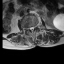CCS_normal: (31, 25, 33, 34)
LFS_stenosis: (34, 23, 36, 29)
LLS_normal: (33, 25, 34, 31)
RFS_stenosis: (27, 25, 29, 31)
RLS_normal: (29, 25, 31, 31)
